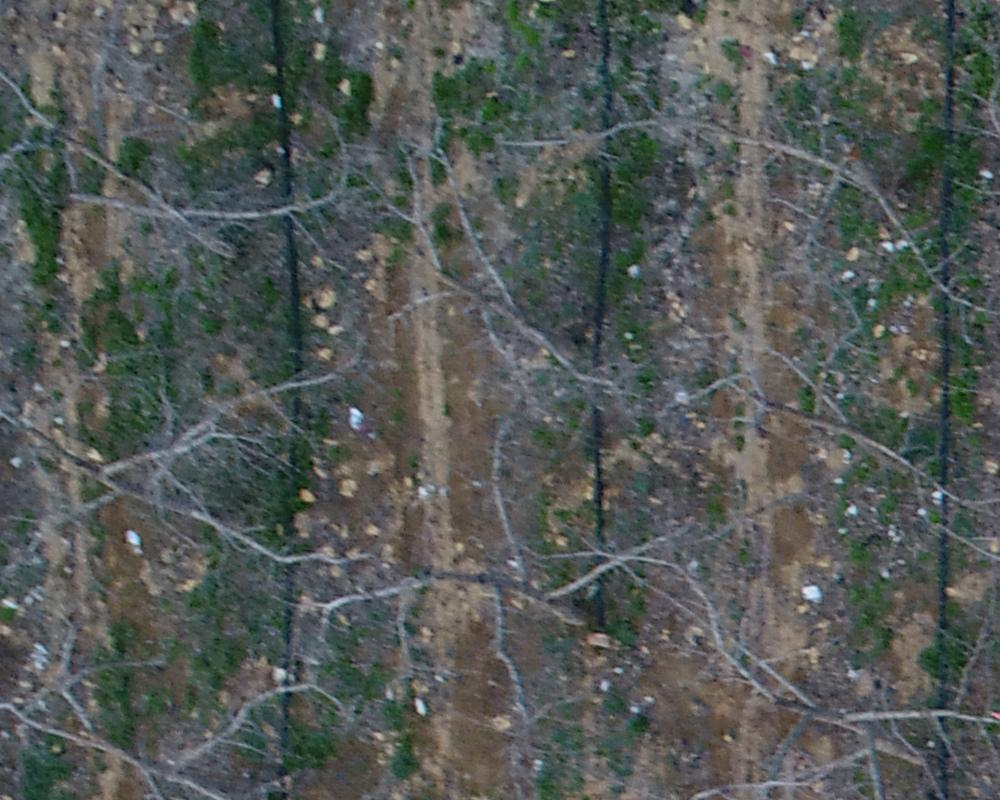apple: (298, 431, 675, 728), (614, 304, 990, 569), (352, 128, 652, 447), (657, 65, 980, 335), (25, 356, 379, 579), (14, 83, 380, 288), (675, 594, 990, 790), (14, 636, 368, 790)
